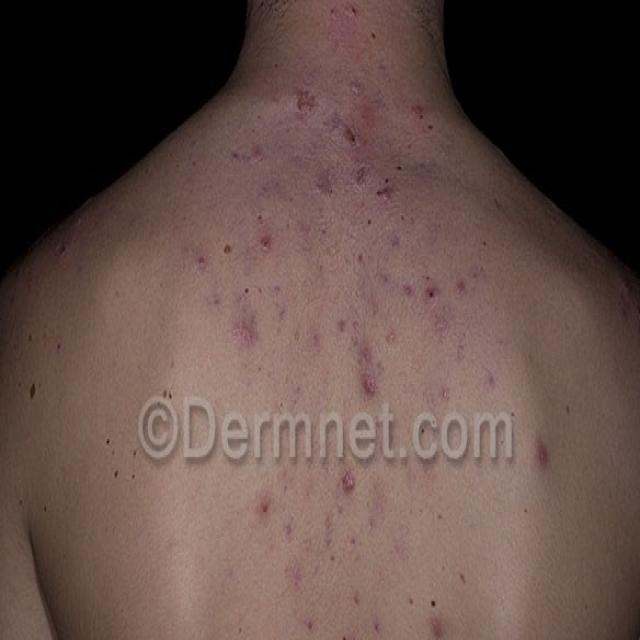Acne: (349, 172, 571, 500), (159, 167, 328, 412), (285, 0, 444, 154), (223, 449, 390, 562), (278, 595, 466, 640)
